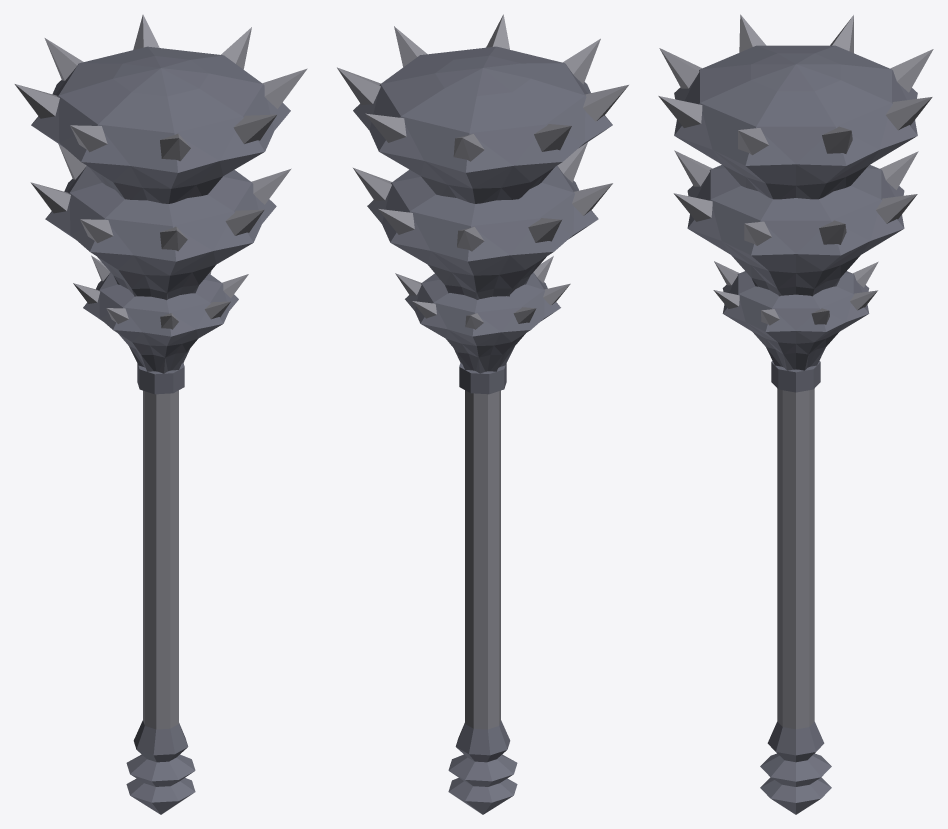
File: _hammer_04.fbx
The picture shows the model from 3 angles, left to right: view 1: azimuth 30°, elevation 25°; view 2: azimuth 150°, elevation 25°; view 3: azimuth 270°, elevation 25°; orthographic projection.
Visible parts, largest first — view 1: hammer_04; view 2: hammer_04; view 3: hammer_04.
Part boxes in pixels (left/top/right/bottom): hammer_04: left=14, top=14, right=307, bottom=814; hammer_04: left=337, top=14, right=628, bottom=814; hammer_04: left=658, top=14, right=933, bottom=814.
Size of the model in its own units: 26.97 by 81.02 by 26.97.
